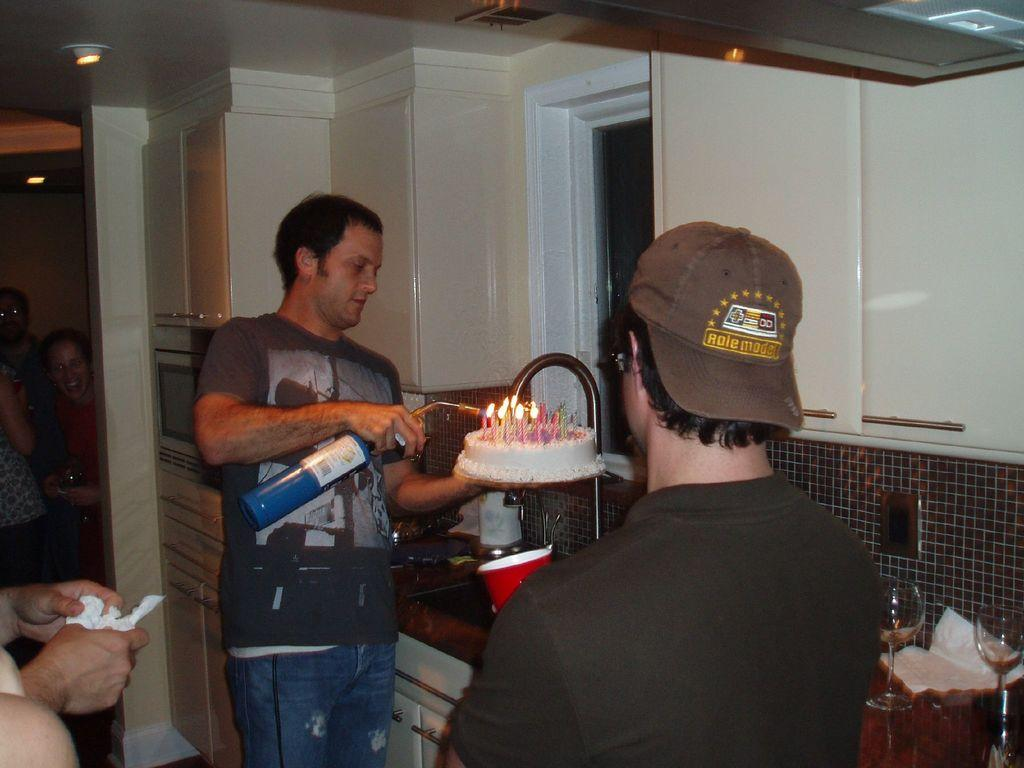Hat: (624, 218, 804, 434)
